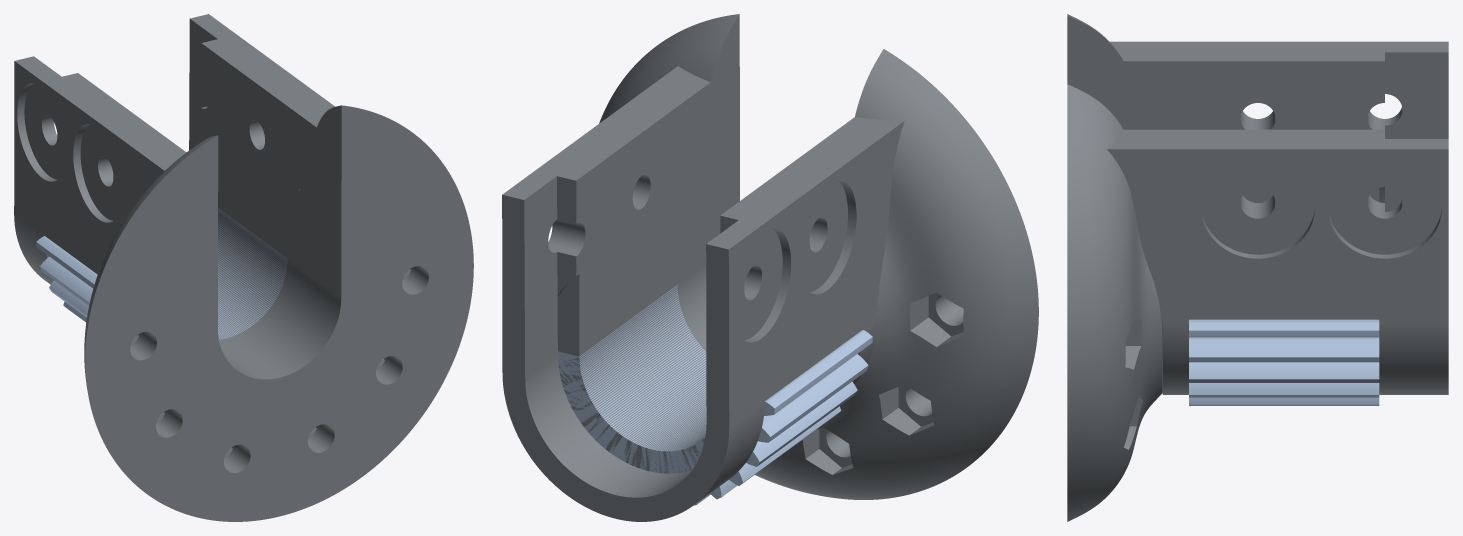
File: stampa_spojen_remenica_i_drzac.obj
3 views of the same model, side by side, from view 1: azimuth 30°, elevation 25°; view 2: azimuth 150°, elevation 25°; view 3: azimuth 270°, elevation 25° (orthographic). The views are drawn at different scales.
Visible parts, largest first — view 1: Asm5; view 2: Asm5; view 3: Asm5.
Boxes of the visible parts, box(x1,y1,x2,y2) form: Asm5: box(14, 14, 473, 521); Asm5: box(502, 14, 1038, 521); Asm5: box(1067, 14, 1448, 521).
Bounding box in the file's own units: 80 × 77.96 × 60.
